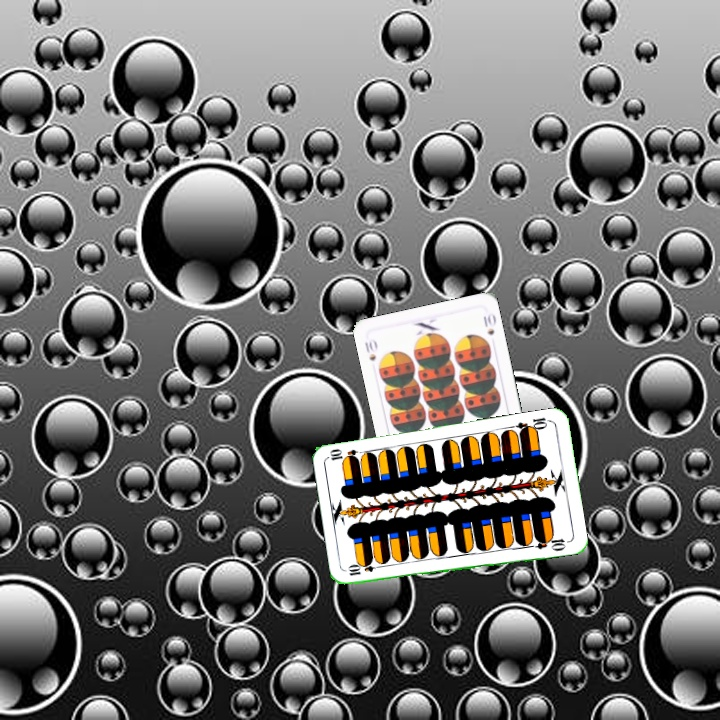E10: (513, 413, 553, 436), (344, 560, 385, 579)
S10: (361, 335, 379, 364)
